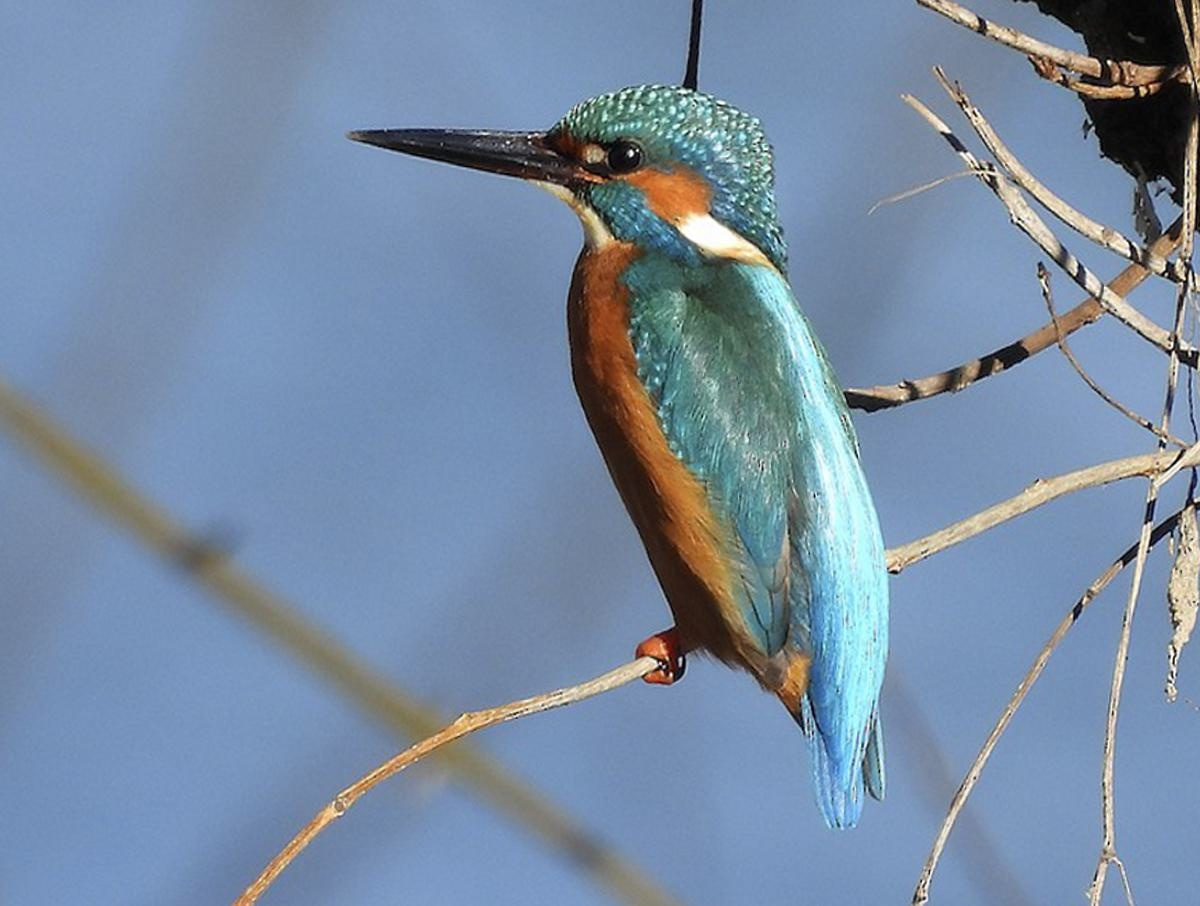kingfisher: (355, 97, 984, 795)
